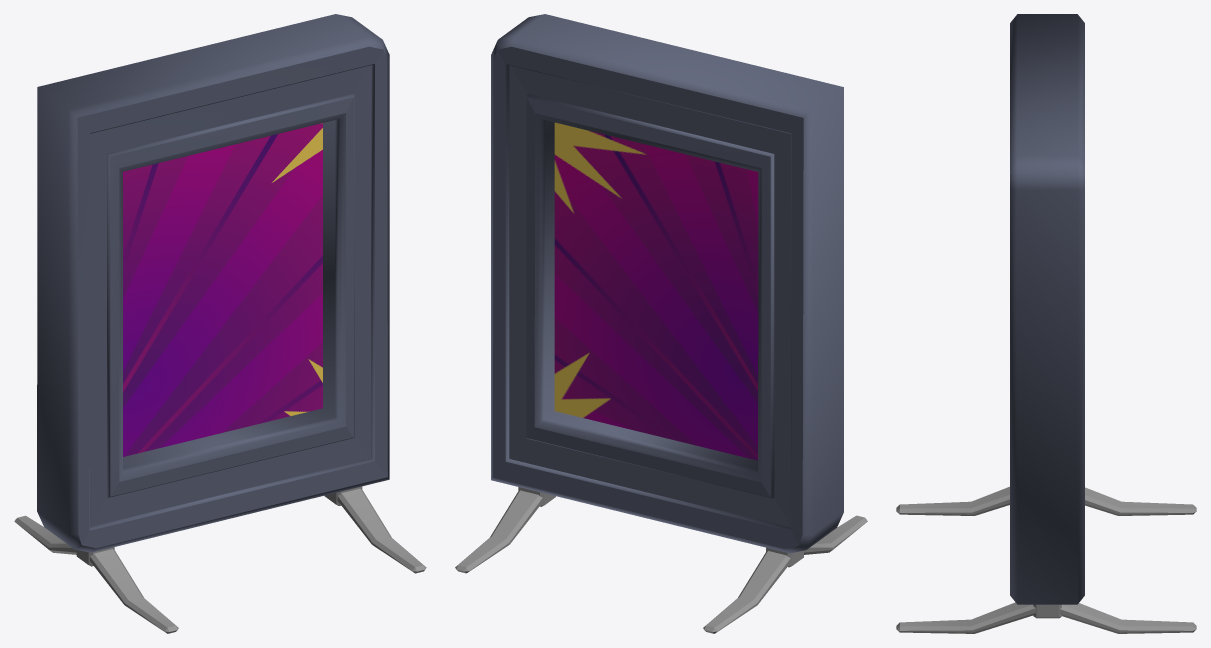
The model's file is reclame bord.fbx.
3 renders of one model, left to right at view 1: azimuth 30°, elevation 25°; view 2: azimuth 150°, elevation 25°; view 3: azimuth 270°, elevation 25°, orthographic. The views are drawn at different scales.
Parts seen in each view (by area): view 1: hulst, reclame, poot, poot1; view 2: hulst, reclame, poot, poot1; view 3: hulst, poot1, poot.
Boxes of the visible parts, bbox=[...] form: hulst: bbox=[37, 14, 389, 552]; reclame: bbox=[123, 123, 322, 456]; poot: bbox=[14, 515, 178, 633]; poot1: bbox=[324, 486, 426, 573]; hulst: bbox=[491, 14, 843, 553]; reclame: bbox=[554, 122, 758, 460]; poot: bbox=[703, 515, 867, 633]; poot1: bbox=[455, 487, 555, 573]; hulst: bbox=[1010, 14, 1084, 604]; poot1: bbox=[896, 602, 1196, 633]; poot: bbox=[896, 486, 1196, 515].
Size of the model in its own units: 1.5 by 2.18 by 1.24.
